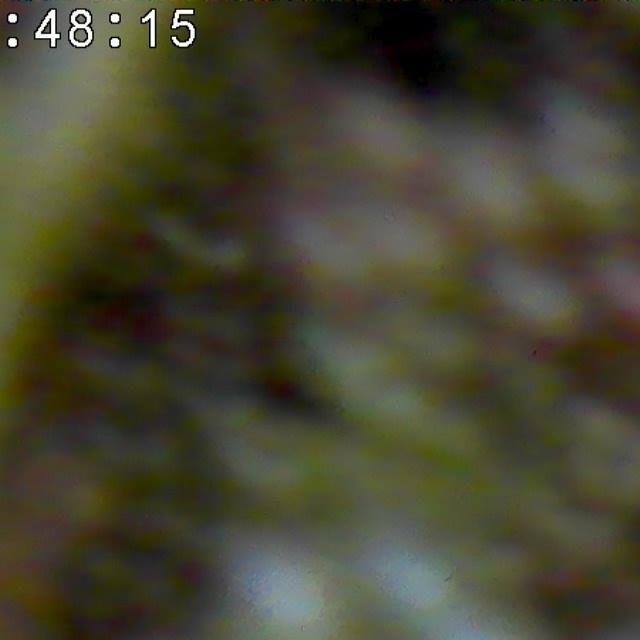SeaGrape: (479, 253, 587, 349), (251, 560, 346, 640)
